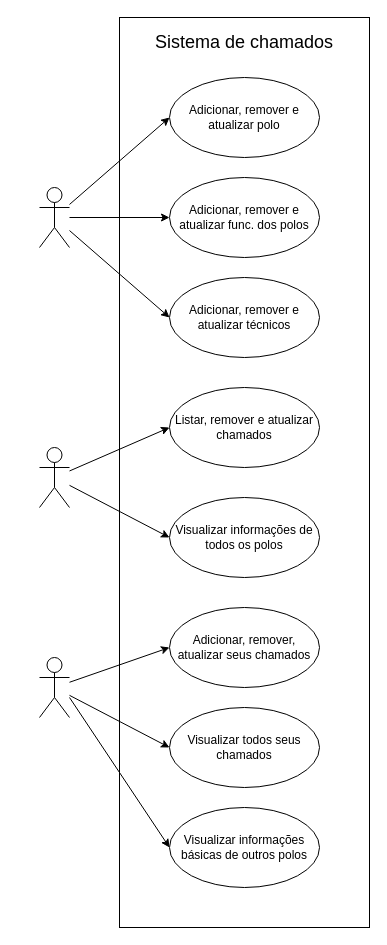
Image size: 387x945. Some labels were removed from this diagram. Each missing label, with the centre of its shape:
Administrador: the point at 54,217
Func. do polo: the point at 54,687
Técnico: the point at 54,477
